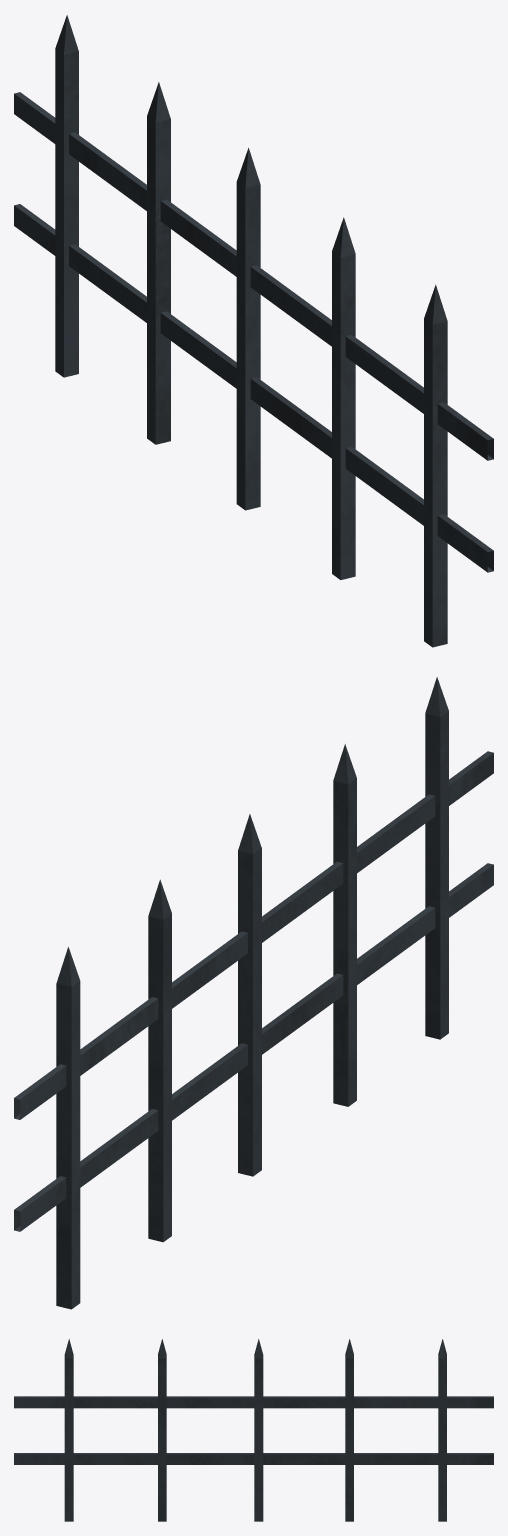
The model's file is sm_metal_fence.fbx.
3 renders of one model, top to bottom at view 1: azimuth 30°, elevation 25°; view 2: azimuth 150°, elevation 25°; view 3: azimuth 270°, elevation 25°, orthographic. The views are drawn at different scales.
Visible parts, largest first — view 1: sm_metal_fence; view 2: sm_metal_fence; view 3: sm_metal_fence.
Boxes of the visible parts, x1,y1,x2,y2 form: sm_metal_fence: (14,15,493,647); sm_metal_fence: (14,677,493,1309); sm_metal_fence: (14,1338,493,1521).
Size of the model in its own units: 0.1737 by 3.94 by 9.44.
